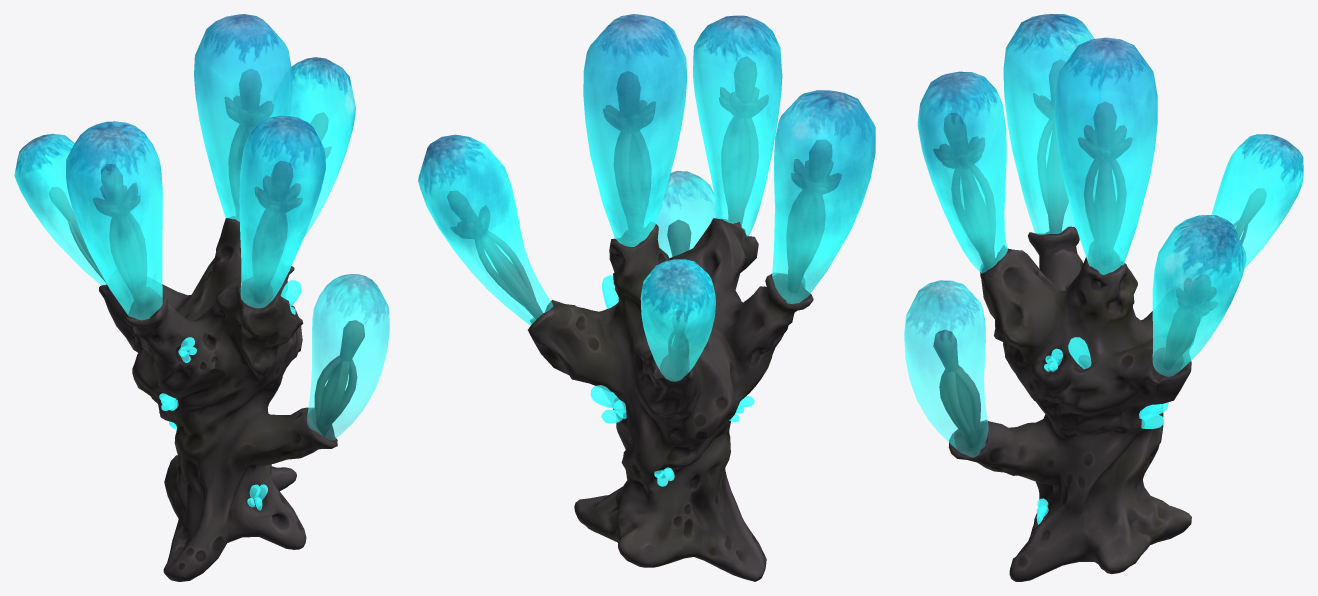
The picture shows the model from 3 angles, left to right: view 1: azimuth 30°, elevation 25°; view 2: azimuth 150°, elevation 25°; view 3: azimuth 270°, elevation 25°; orthographic projection. The views are drawn at different scales.
Visible parts, largest first — view 1: BigBulbs_LP, TreeBase_LP, InnerBulbs_LP, SmallBulbs_LP; view 2: BigBulbs_LP, TreeBase_LP, InnerBulbs_LP, SmallBulbs_LP; view 3: BigBulbs_LP, TreeBase_LP, InnerBulbs_LP, SmallBulbs_LP.
Part boxes in pixels (bbox=[...]): BigBulbs_LP: bbox=[14, 14, 389, 440]; TreeBase_LP: bbox=[99, 216, 337, 581]; InnerBulbs_LP: bbox=[49, 69, 364, 436]; SmallBulbs_LP: bbox=[159, 280, 301, 510]; BigBulbs_LP: bbox=[418, 14, 875, 381]; TreeBase_LP: bbox=[528, 218, 813, 581]; InnerBulbs_LP: bbox=[447, 56, 841, 376]; SmallBulbs_LP: bbox=[590, 275, 754, 486]; BigBulbs_LP: bbox=[904, 14, 1303, 456]; TreeBase_LP: bbox=[948, 226, 1193, 581]; InnerBulbs_LP: bbox=[933, 59, 1265, 447]; SmallBulbs_LP: bbox=[1036, 337, 1168, 524].
Size of the model in its own units: 573 by 816 by 535.
2 materials, 2 textured.
